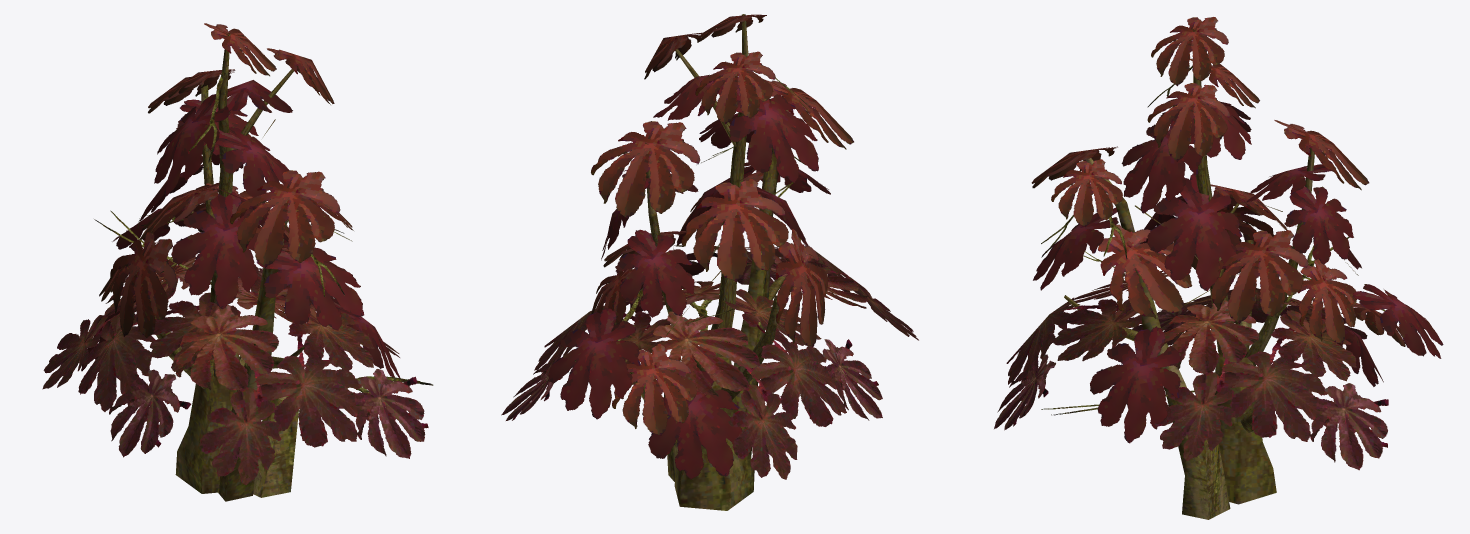
File: guanmu_02.FBX
The picture shows the model from 3 angles, left to right: view 1: azimuth 30°, elevation 25°; view 2: azimuth 150°, elevation 25°; view 3: azimuth 270°, elevation 25°; orthographic projection. The views are drawn at different scales.
Parts seen in each view (by area): view 1: guanmu_02_01, guanmu_02_02; view 2: guanmu_02_01, guanmu_02_02; view 3: guanmu_02_01, guanmu_02_02.
Boxes of the visible parts, x1,y1,x2,y2 form: guanmu_02_01: (81,23,433,501); guanmu_02_02: (42,256,428,485); guanmu_02_01: (548,14,853,510); guanmu_02_02: (501,246,918,479); guanmu_02_01: (1031,17,1443,519); guanmu_02_02: (994,271,1388,470).
Size of the model in its own units: 3.47 by 4.77 by 4.47.
